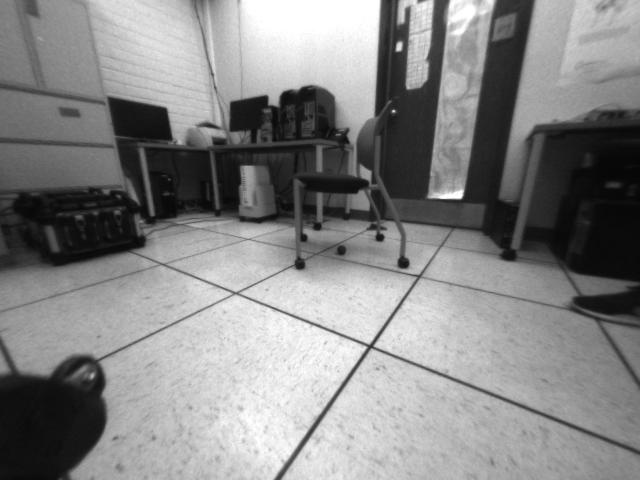dogtoy: (333, 239, 354, 258)
